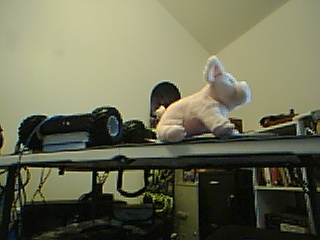piggy: (154, 54, 252, 144)
